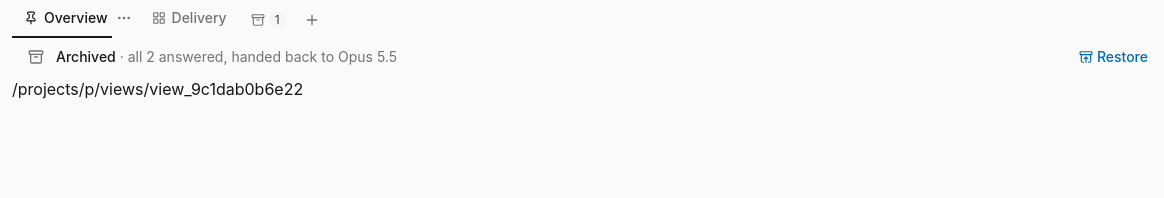
it: archived views › the Overview (pinned, template) has no Archive in its menu
Click the button named "Options for Overview" at (124, 18), box [112, 6, 136, 30]
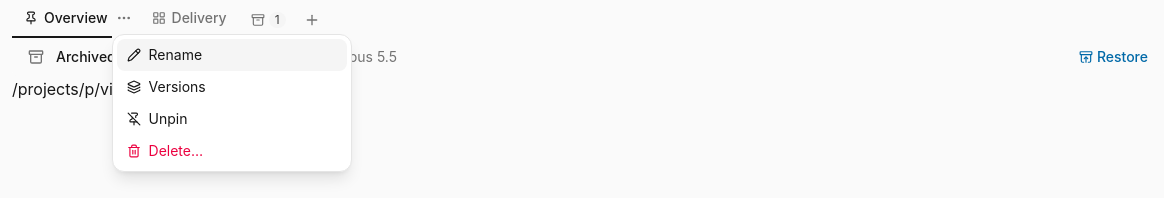
Now the menu item "Rename" is shown, box [116, 39, 346, 71]
